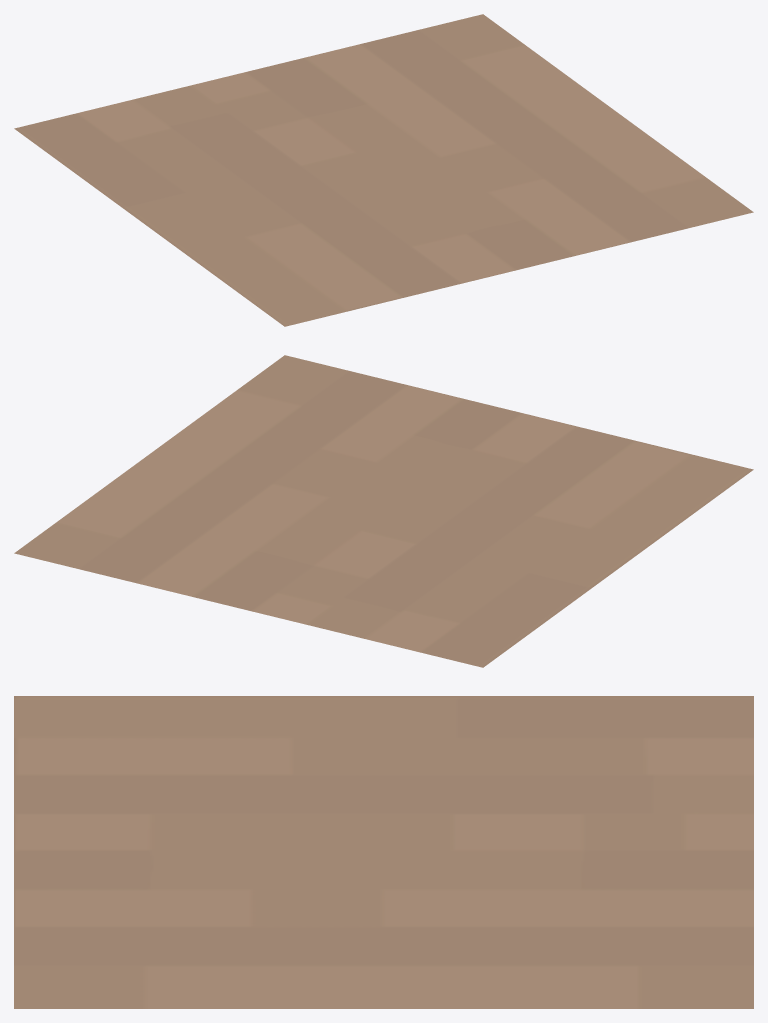
File: office_pack_demoRoom_floor_corner_right_upper.fbx
3 views of the same model, one above another, from view 1: azimuth 30°, elevation 25°; view 2: azimuth 150°, elevation 25°; view 3: azimuth 270°, elevation 25° (orthographic). The views are drawn at different scales.
Parts seen in each view (by area): view 1: office_pack_demoRoom_floor_corner_right_upper; view 2: office_pack_demoRoom_floor_corner_right_upper; view 3: office_pack_demoRoom_floor_corner_right_upper.
Boxes of the visible parts, box(x1,y1,x2,y2) form: office_pack_demoRoom_floor_corner_right_upper: box(14, 14, 753, 326); office_pack_demoRoom_floor_corner_right_upper: box(14, 355, 753, 667); office_pack_demoRoom_floor_corner_right_upper: box(14, 696, 753, 1008).
Bounding box in the file's own units: 103 × 3.3e-05 × 103.
